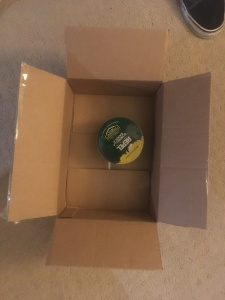innerbox: (65, 77, 154, 219)
outerbox: (15, 27, 206, 267)
product: (96, 116, 144, 169)
